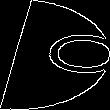O_W: (6, 29, 104, 81)
